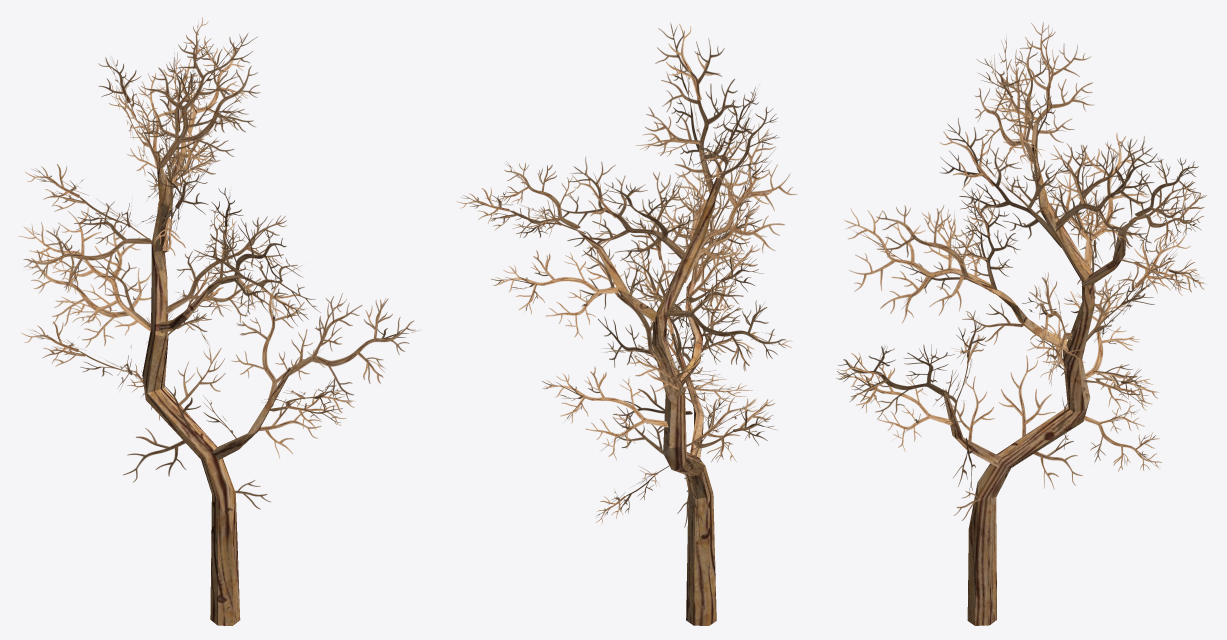
Rendered from desert_tree.glb.
3 views of the same model, side by side, from view 1: azimuth 30°, elevation 25°; view 2: azimuth 150°, elevation 25°; view 3: azimuth 270°, elevation 25° (orthographic). The views are drawn at different scales.
Visible parts, largest first — view 1: SM_DeadTree_a; view 2: SM_DeadTree_a; view 3: SM_DeadTree_a.
Boxes of the visible parts, bbox=[...] form: SM_DeadTree_a: bbox=[18, 17, 420, 625]; SM_DeadTree_a: bbox=[456, 23, 796, 625]; SM_DeadTree_a: bbox=[836, 22, 1206, 625].
Bounding box in the file's own units: 2.89 × 5.76 × 3.42.
Materials: 2 (2 with a texture image).
